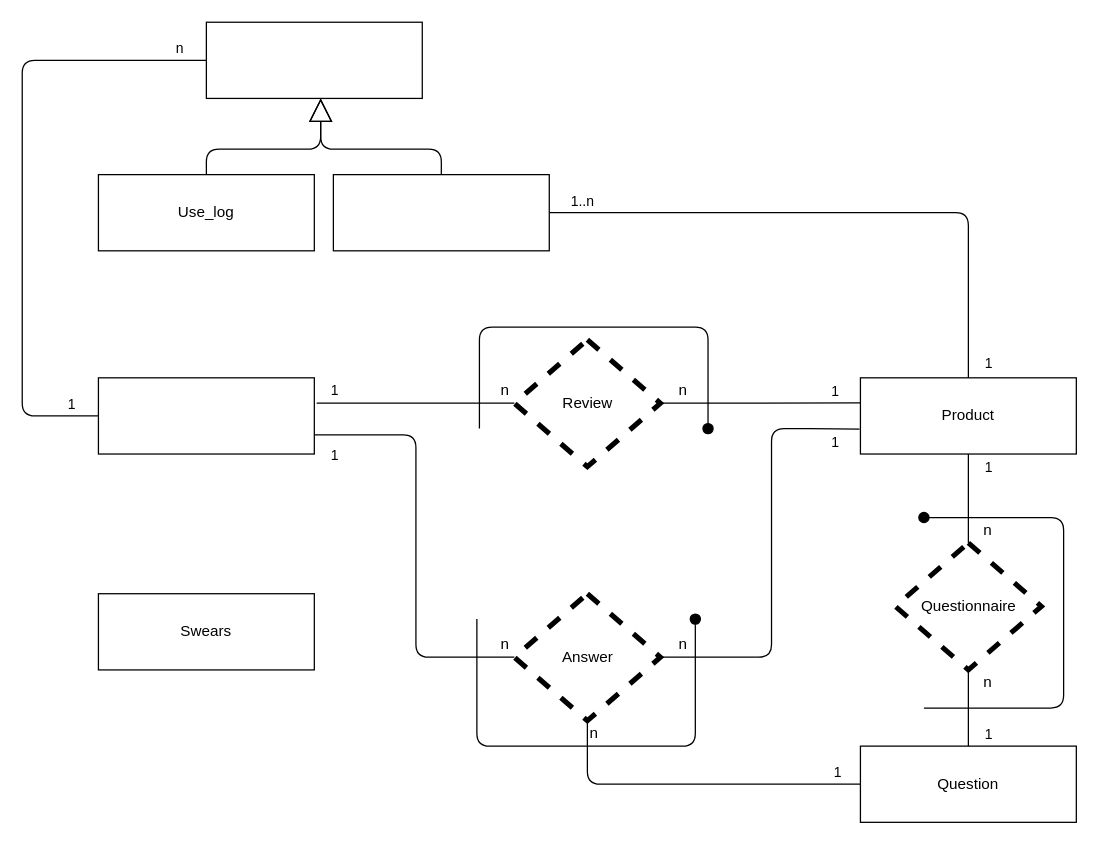
Image size: 1099x845. Some labels were removed from this diagram. Each missing label, with the centre of its shape:
Log: [313,59]
Questionnaire_log: [440,212]
User: [205,415]
